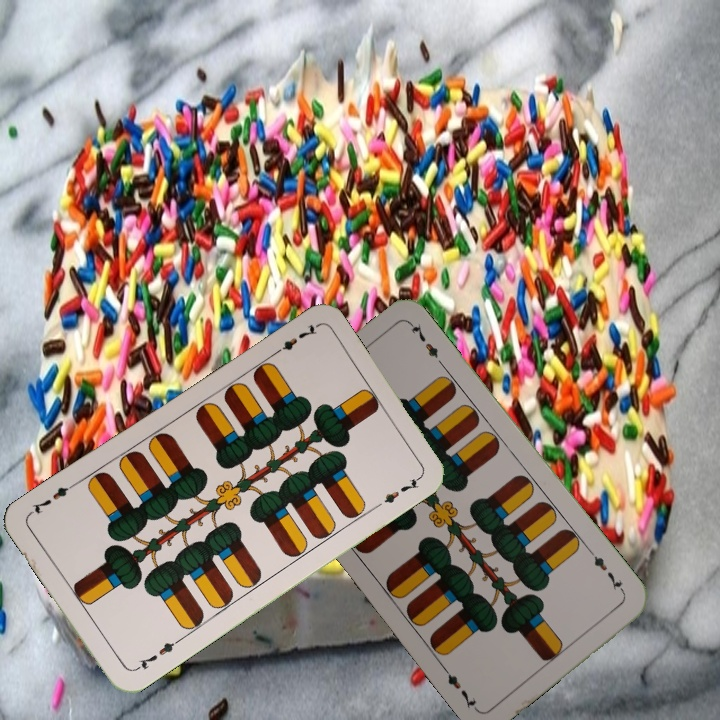E7: (586, 547, 628, 597), (267, 320, 320, 359), (130, 635, 182, 674)
